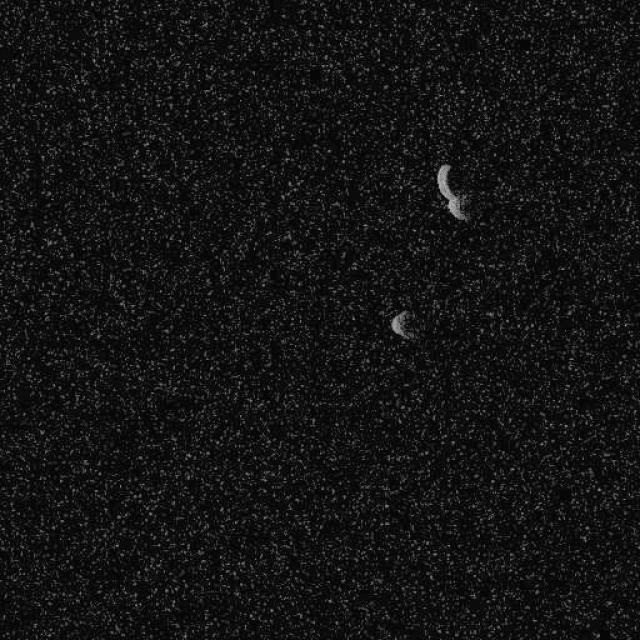D2: (435, 161, 470, 221), (388, 309, 418, 341)
